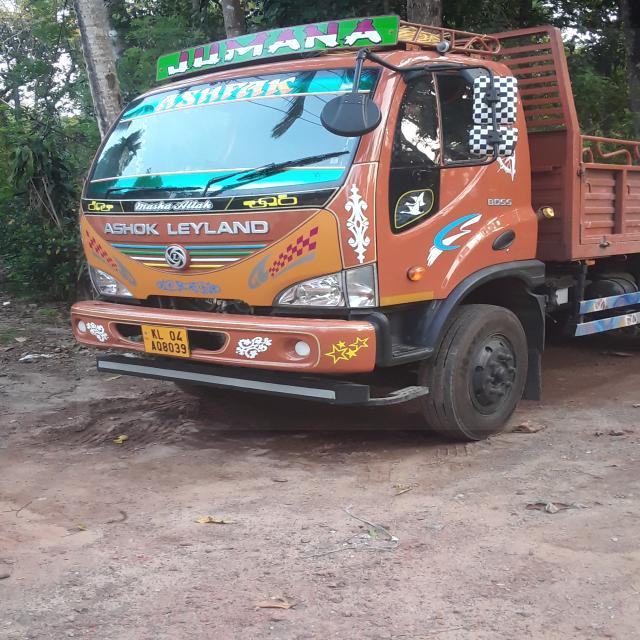Truck: (77, 28, 640, 430)
